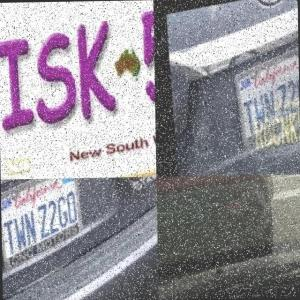Plate: (0, 0, 155, 140), (0, 178, 92, 265)
